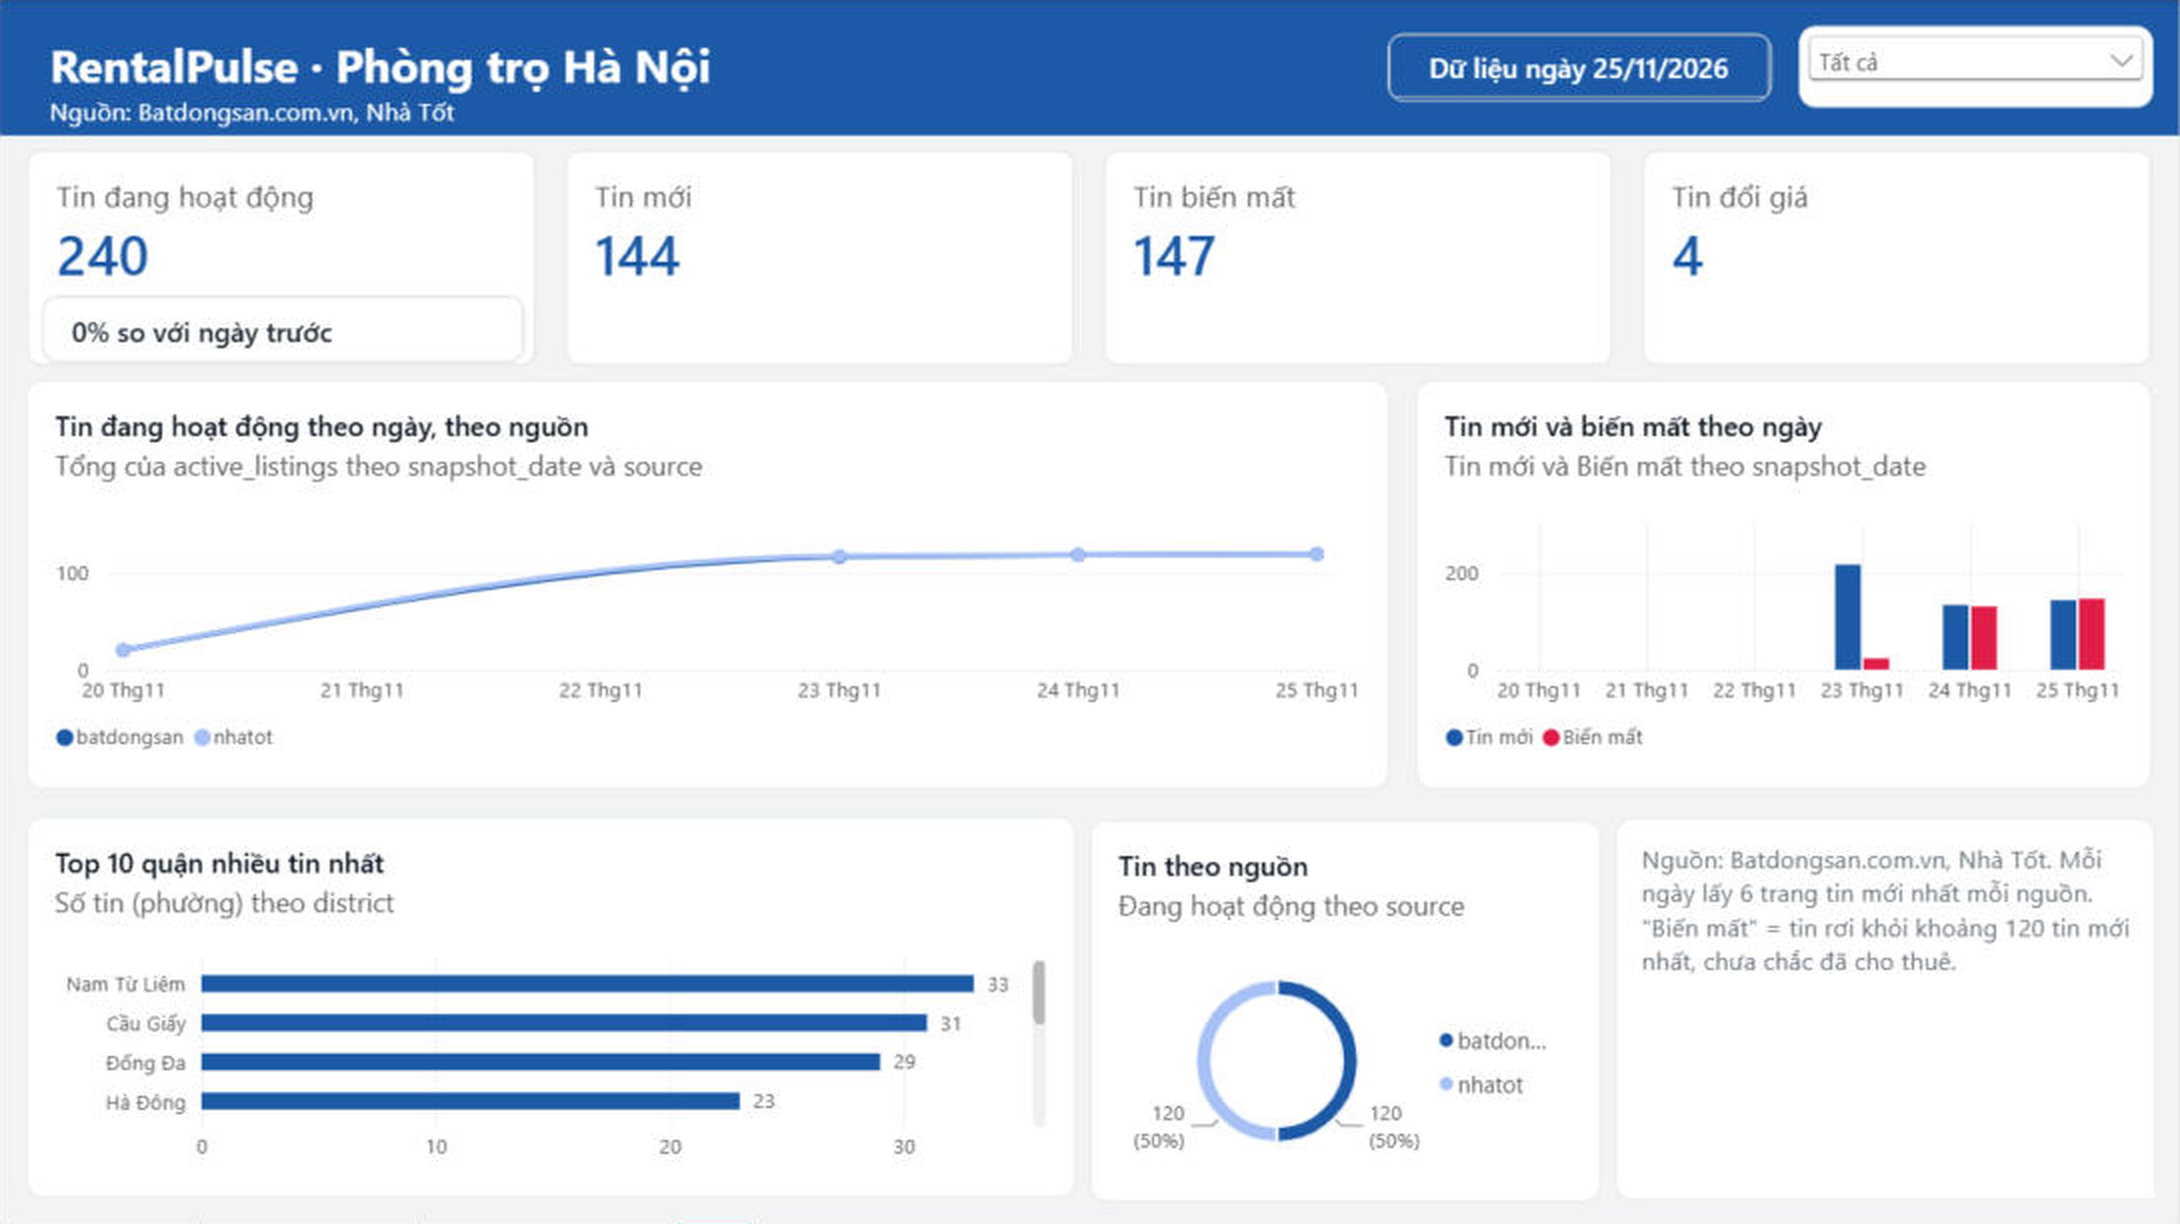

What the dashboard file says about the page in this screenshot:
{"tool":"powerbi","page":{"name":"Tổng quan","canvas":[1280,720],"ordinal":0},"visuals":[{"type":"textbox","box":[0,0,1280,80],"z":0},{"type":"cardVisual","fields":{"Data":["flow.Tiêu đề cập nhật"]},"box":[815.3,20,225.2,39.9],"z":1000},{"type":"slicer","fields":{"Values":["Nguồn.source"]},"box":[1056,16,208,48],"z":2000},{"type":"cardVisual","fields":{"Data":["flow.Đang hoạt động"]},"box":[16,88,300,128],"z":3000},{"type":"cardVisual","fields":{"Data":["flow.Δ% so với ngày trước"]},"box":[24,174,284,40],"z":4000},{"type":"cardVisual","fields":{"Data":["flow.Tin mới"]},"box":[332,88,300,128],"z":5000},{"type":"cardVisual","fields":{"Data":["flow.Tin biến mất"]},"box":[648,88,300,128],"z":6000},{"type":"cardVisual","fields":{"Data":["flow.Tin đổi giá"]},"box":[964,88,300,128],"z":7000},{"type":"lineChart","title":"Tin đang hoạt động theo ngày, theo nguồn","fields":{"Category":["flow.snapshot_date"],"Series":["flow.source"],"Y":["Sum(flow.active_listings)"]},"box":[16,224,800,240],"z":8000},{"type":"clusteredColumnChart","title":"Tin mới và biến mất theo ngày","fields":{"Category":["flow.snapshot_date"],"Y":["Sum(flow.new_listings)","Sum(flow.disappeared_listings)"]},"box":[832,224,432,240],"z":9000},{"type":"clusteredBarChart","title":"Top 10 quận nhiều tin nhất","fields":{"Category":["price.district"],"Y":["price.Số tin (quận)"]},"box":[16,480,616,224],"z":10000},{"type":"donutChart","title":"Tin theo nguồn","fields":{"Category":["flow.source"],"Y":["flow.Đang hoạt động"]},"box":[640,481.8,300,224],"z":11000},{"type":"textbox","box":[947.9,480.4,316.4,223.8],"z":12000},{"type":"textbox","box":[963.6,494.6,300.8,209.5],"z":13000}]}

Visuals, with their boxes in screenshot pixels (x1, y1, x2, y2), scaled from the page's 1280x720 canvas onto the 2180x1224 screenshot:
textbox: pyautogui.locateOnScreen(0, 0, 2179, 136)
cardVisual - flow.Tiêu đề cập nhật: pyautogui.locateOnScreen(1389, 34, 1772, 102)
slicer - Nguồn.source: pyautogui.locateOnScreen(1798, 27, 2153, 109)
cardVisual - flow.Đang hoạt động: pyautogui.locateOnScreen(27, 150, 538, 367)
cardVisual - flow.Δ% so với ngày trước: pyautogui.locateOnScreen(41, 296, 525, 364)
cardVisual - flow.Tin mới: pyautogui.locateOnScreen(565, 150, 1076, 367)
cardVisual - flow.Tin biến mất: pyautogui.locateOnScreen(1104, 150, 1615, 367)
cardVisual - flow.Tin đổi giá: pyautogui.locateOnScreen(1642, 150, 2153, 367)
"Tin đang hoạt động theo ngày, theo nguồn" lineChart: pyautogui.locateOnScreen(27, 381, 1390, 789)
"Tin mới và biến mất theo ngày" clusteredColumnChart: pyautogui.locateOnScreen(1417, 381, 2153, 789)
"Top 10 quận nhiều tin nhất" clusteredBarChart: pyautogui.locateOnScreen(27, 816, 1076, 1197)
"Tin theo nguồn" donutChart: pyautogui.locateOnScreen(1090, 819, 1601, 1200)
textbox: pyautogui.locateOnScreen(1614, 817, 2153, 1197)
textbox: pyautogui.locateOnScreen(1641, 841, 2153, 1197)
